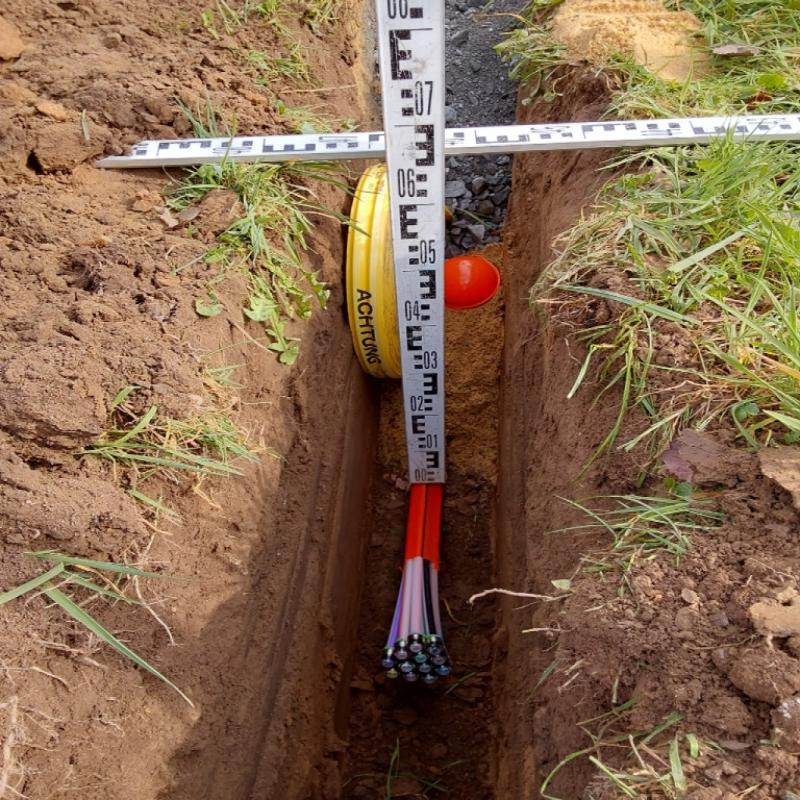Kugelmarker: (445, 256, 500, 310)
Orang-Speednetrohrchen: (379, 485, 452, 684)
